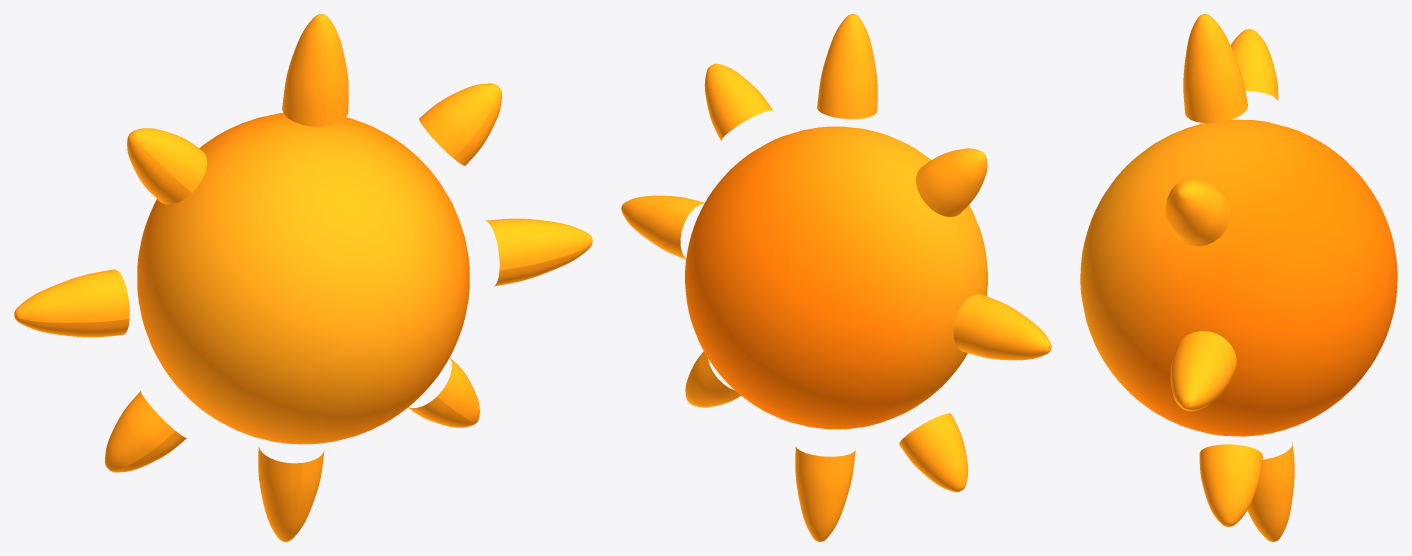
File: sunny.glb
The picture shows the model from 3 angles, left to right: view 1: azimuth 30°, elevation 25°; view 2: azimuth 150°, elevation 25°; view 3: azimuth 270°, elevation 25°; orthographic projection. The views are drawn at different scales.
Visible parts, largest first — view 1: sun-core, sun-ray; view 2: sun-core, sun-ray; view 3: sun-core, sun-ray.
Part boxes in pixels (x1,y1,x2,y2): sun-core: (137,113,469,444); sun-ray: (14,14,592,541); sun-core: (685,126,987,429); sun-ray: (621,14,1051,541); sun-core: (1080,119,1397,436); sun-ray: (1165,14,1294,541).
Bounding box in the file's own units: 1.81 × 1.83 × 0.9998.
